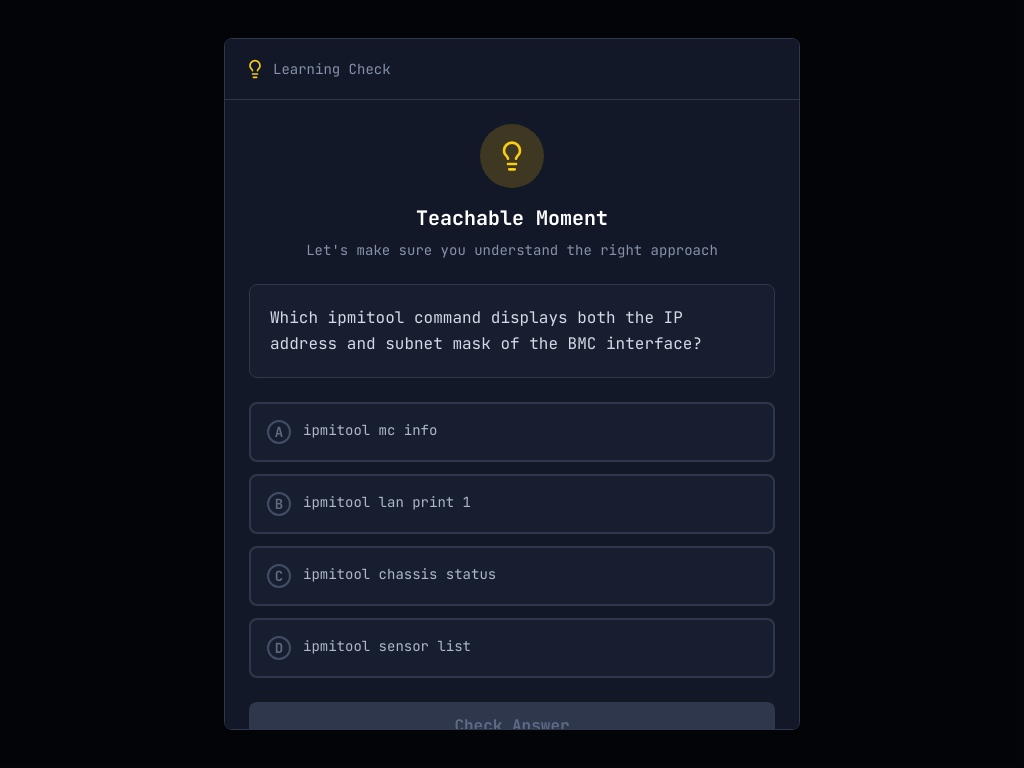
Test: ExplanationGate › Correct Answer Feedback › shows correct feedback when right answer is selected
Click the button "B ipmitool lan print 1". click: (387, 502)
box: [249,474,775,534]
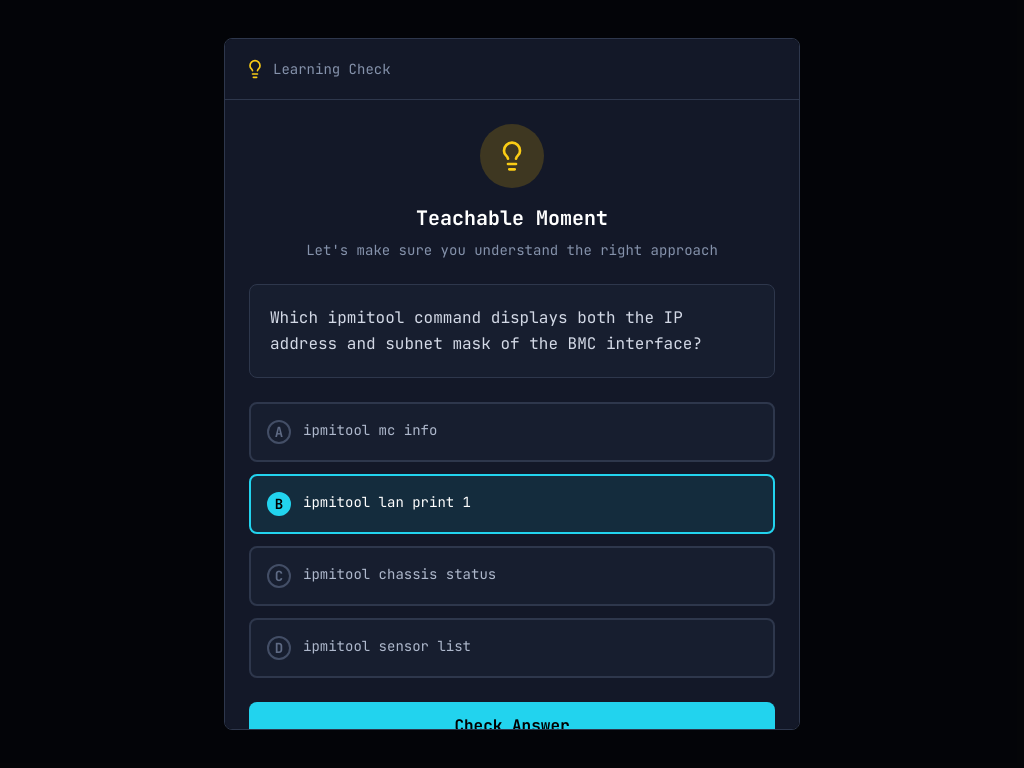
Click the button "Check Answer". click: (512, 726)
box: [249,702,775,750]
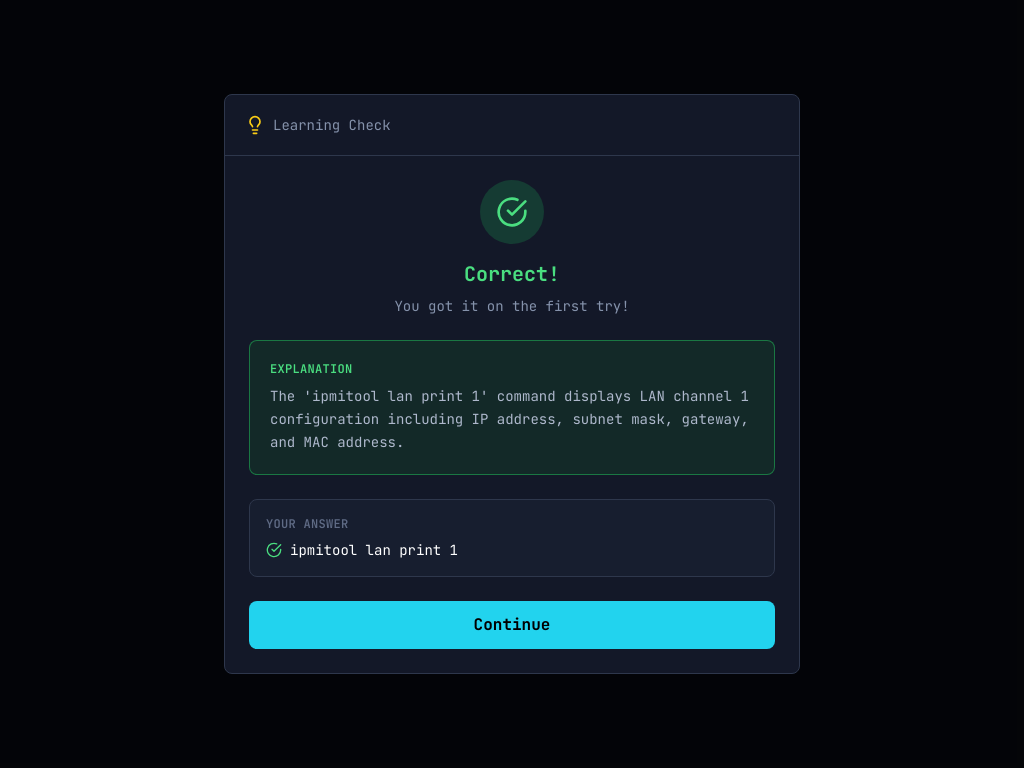
Result: the heading "Correct!" is shown at [464,261,560,287]
